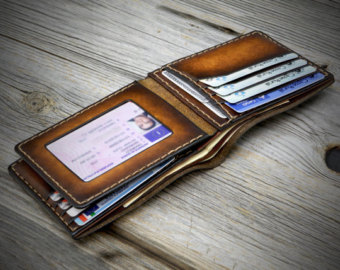monedero: (7, 28, 336, 242)
